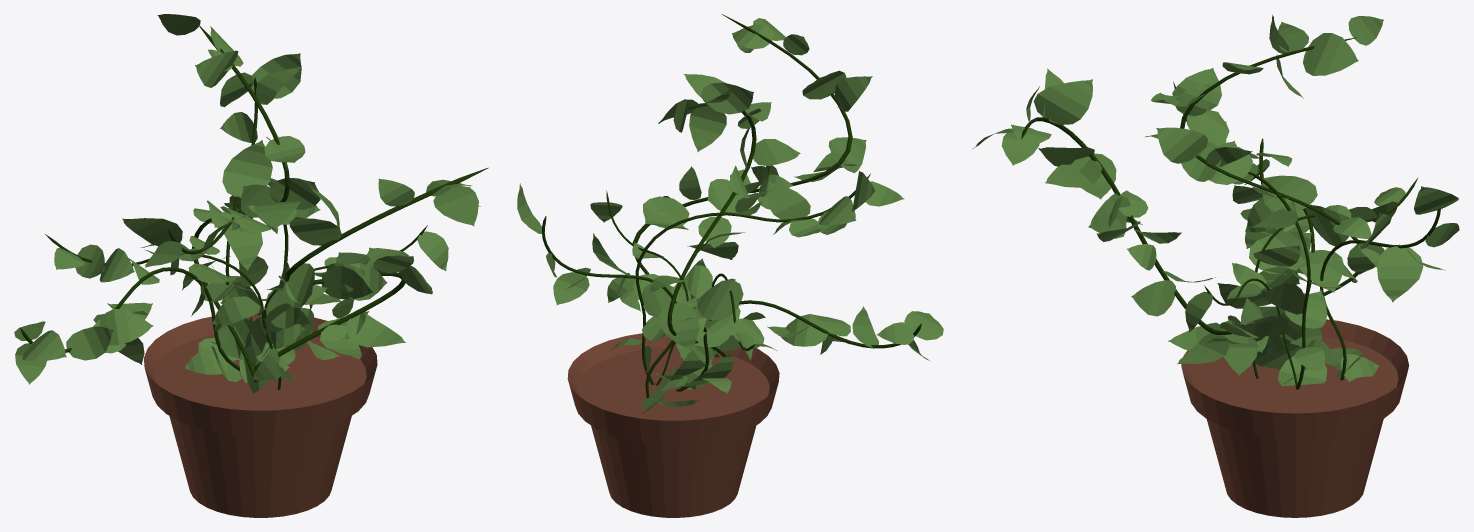
Rendered from plant with pot final.fbx.
The picture shows the model from 3 angles, left to right: view 1: azimuth 30°, elevation 25°; view 2: azimuth 150°, elevation 25°; view 3: azimuth 270°, elevation 25°; orthographic projection. The views are drawn at different scales.
Visible parts, largest first — view 1: Cylinder.001, Vert, Vert|Cylinder|Dupli|85, Vert|Cylinder|Dupli|61, Vert|Cylinder|Dupli|75, Vert|Cylinder|Dupli|44, Vert|Cylinder|Dupli|67, Vert|Cylinder|Dupli|77, Vert|Cylinder|Dupli|52, Vert|Cylinder|Dupli|105, Vert|Cylinder|Dupli|57, Vert|Cylinder|Dupli|9 (+26 smaller); view 2: Cylinder.001, Vert, Vert|Cylinder|Dupli|71, Vert|Cylinder|Dupli|83, Vert|Cylinder|Dupli|14, Vert|Cylinder|Dupli|100, Vert|Cylinder|Dupli|16, Vert|Cylinder|Dupli|74, Vert|Cylinder|Dupli|10, Vert|Cylinder|Dupli|54, Vert|Cylinder|Dupli|88, Vert|Cylinder|Dupli|57 (+18 smaller); view 3: Cylinder.001, Vert, Vert|Cylinder|Dupli|58, Vert|Cylinder|Dupli|87, Vert|Cylinder|Dupli|17, Vert|Cylinder|Dupli|9, Vert|Cylinder|Dupli|4, Vert|Cylinder|Dupli|23, Vert|Cylinder|Dupli|45, Vert|Cylinder|Dupli|55, Vert|Cylinder|Dupli|70, Vert|Cylinder|Dupli|44 (+30 smaller).
Part boxes in pixels (left/top/right/bottom): Cylinder.001: left=144, top=312, right=377, bottom=517; Vert: left=20, top=25, right=488, bottom=389; Vert|Cylinder|Dupli|85: left=222, top=140, right=272, bottom=197; Vert|Cylinder|Dupli|61: left=433, top=185, right=478, bottom=225; Vert|Cylinder|Dupli|75: left=99, top=309, right=153, bottom=345; Vert|Cylinder|Dupli|44: left=346, top=314, right=405, bottom=347; Vert|Cylinder|Dupli|67: left=215, top=318, right=267, bottom=359; Vert|Cylinder|Dupli|77: left=66, top=326, right=113, bottom=360; Vert|Cylinder|Dupli|52: left=321, top=265, right=372, bottom=299; Vert|Cylinder|Dupli|105: left=122, top=218, right=182, bottom=246; Vert|Cylinder|Dupli|57: left=289, top=217, right=341, bottom=245; Vert|Cylinder|Dupli|9: left=270, top=178, right=320, bottom=209; Cylinder.001: left=567, top=333, right=779, bottom=517; Vert: left=542, top=14, right=921, bottom=398; Vert|Cylinder|Dupli|71: left=696, top=279, right=743, bottom=320; Vert|Cylinder|Dupli|83: left=659, top=303, right=699, bottom=350; Vert|Cylinder|Dupli|14: left=689, top=105, right=726, bottom=151; Vert|Cylinder|Dupli|100: left=767, top=181, right=810, bottom=219; Vert|Cylinder|Dupli|16: left=700, top=82, right=753, bottom=114; Vert|Cylinder|Dupli|74: left=778, top=314, right=828, bottom=346; Vert|Cylinder|Dupli|10: left=753, top=139, right=800, bottom=166; Vert|Cylinder|Dupli|54: left=828, top=137, right=866, bottom=173; Vert|Cylinder|Dupli|88: left=553, top=272, right=589, bottom=304; Vert|Cylinder|Dupli|57: left=834, top=76, right=872, bottom=111; Cylinder.001: left=1181, top=319, right=1408, bottom=517; Vert: left=1021, top=37, right=1440, bottom=389; Vert|Cylinder|Dupli|58: left=1033, top=79, right=1092, bottom=124; Vert|Cylinder|Dupli|87: left=1377, top=244, right=1423, bottom=302; Vert|Cylinder|Dupli|17: left=1303, top=33, right=1358, bottom=75; Vert|Cylinder|Dupli|9: left=1156, top=127, right=1207, bottom=163; Vert|Cylinder|Dupli|4: left=1262, top=175, right=1317, bottom=211; Vert|Cylinder|Dupli|23: left=1249, top=232, right=1311, bottom=274; Vert|Cylinder|Dupli|45: left=1131, top=280, right=1175, bottom=316; Vert|Cylinder|Dupli|55: left=1045, top=158, right=1101, bottom=187; Vert|Cylinder|Dupli|70: left=1298, top=250, right=1344, bottom=292; Vert|Cylinder|Dupli|44: left=1177, top=333, right=1228, bottom=364.
Bounding box in the file's own units: 251 × 273 × 269.
